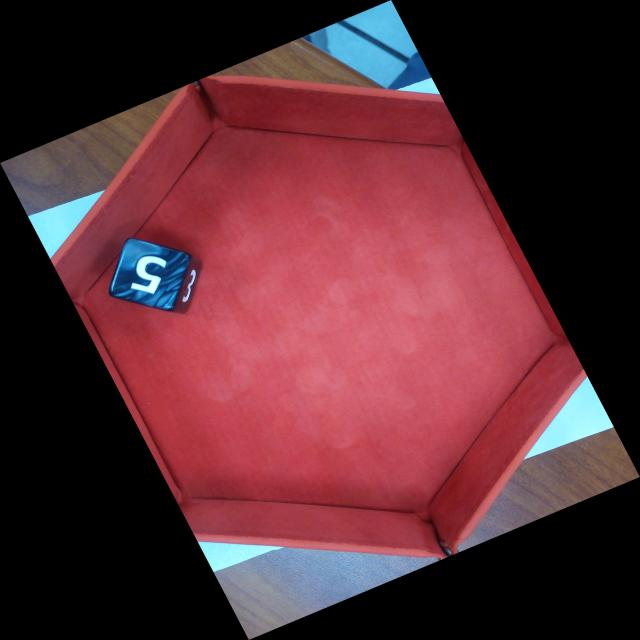dice: (111, 244, 191, 311)
